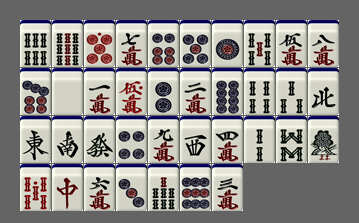0m: (116, 68, 147, 115)
0p: (84, 20, 115, 67)
0s: (20, 164, 51, 211)
1m: (84, 68, 115, 115)
1p: (212, 20, 243, 67)
1s: (308, 116, 339, 163)
1z: (20, 116, 51, 163)
2m: (180, 68, 211, 115)
2p: (148, 68, 179, 115)
2s: (244, 116, 275, 163)
2z: (52, 116, 83, 163)
3m: (212, 164, 243, 211)
3p: (116, 164, 147, 211)
3s: (276, 68, 307, 115)
3z: (180, 116, 211, 163)
4m: (212, 116, 243, 163)
4p: (116, 116, 147, 163)
4s: (244, 68, 275, 115)
4z: (308, 68, 339, 115)
5m: (276, 20, 307, 67)
5p: (180, 20, 211, 67)
5s: (244, 20, 275, 67)
5z: (52, 68, 83, 115)
6m: (84, 164, 115, 211)
6p: (148, 20, 179, 67)
6s: (20, 20, 51, 67)
6z: (84, 116, 115, 163)
7m: (116, 20, 147, 67)
7p: (20, 68, 51, 115)
7s: (148, 164, 179, 211)
7z: (52, 164, 83, 211)
8m: (308, 20, 339, 67)
8p: (212, 68, 243, 115)
8s: (276, 116, 307, 163)
9m: (148, 116, 179, 163)
9p: (180, 164, 211, 211)
9s: (52, 20, 83, 67)
